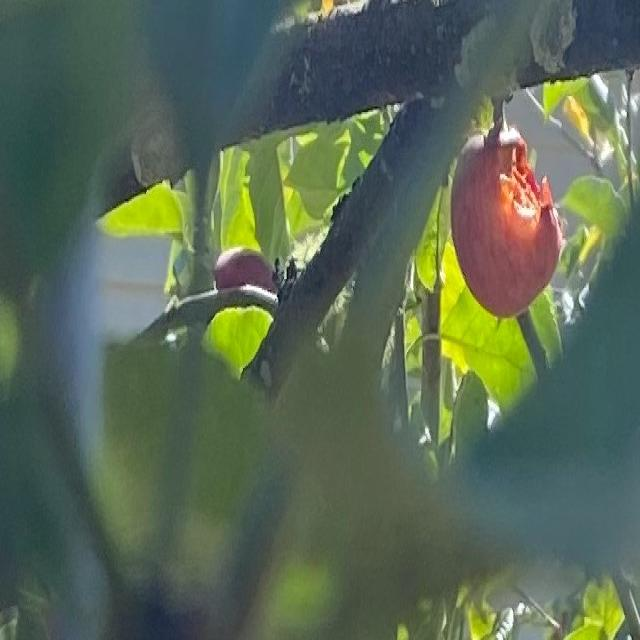100-_ripeness: (453, 130, 560, 318), (213, 249, 278, 295)
